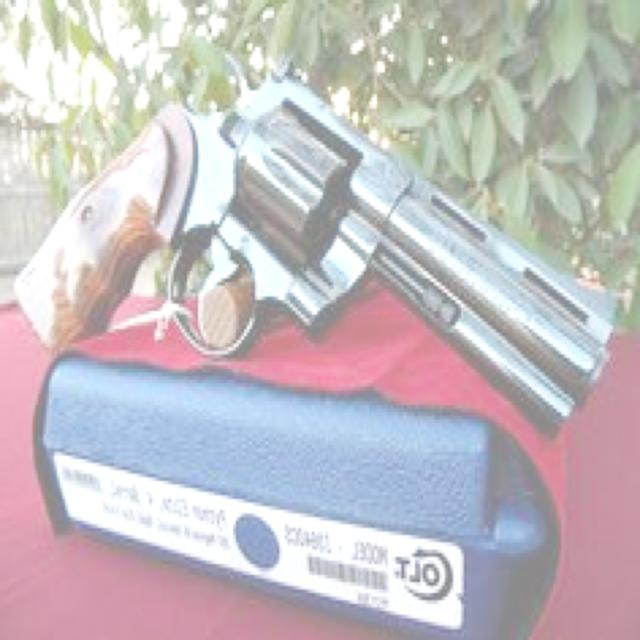revolver: (6, 61, 632, 434)
